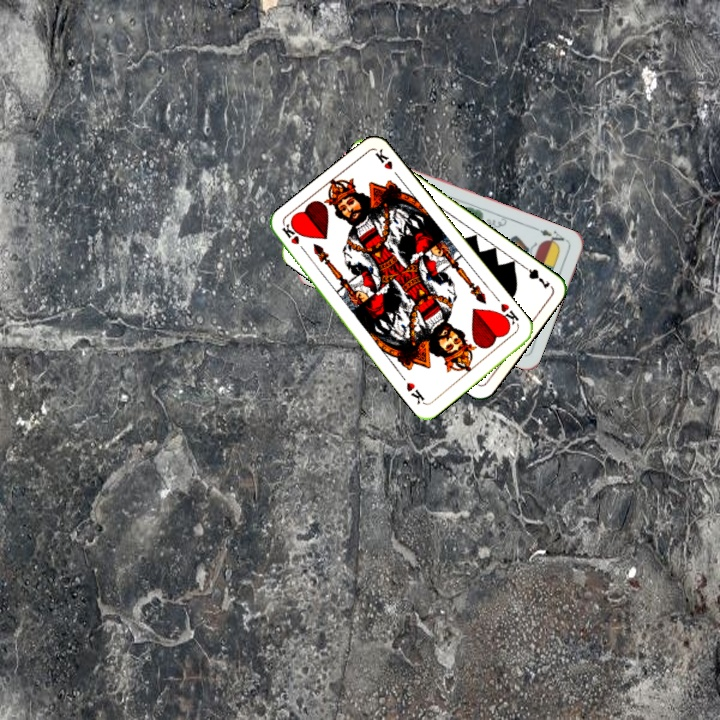EA: (531, 223, 570, 249)
G7: (517, 260, 553, 292)
HK: (278, 221, 310, 257), (493, 299, 522, 330)
